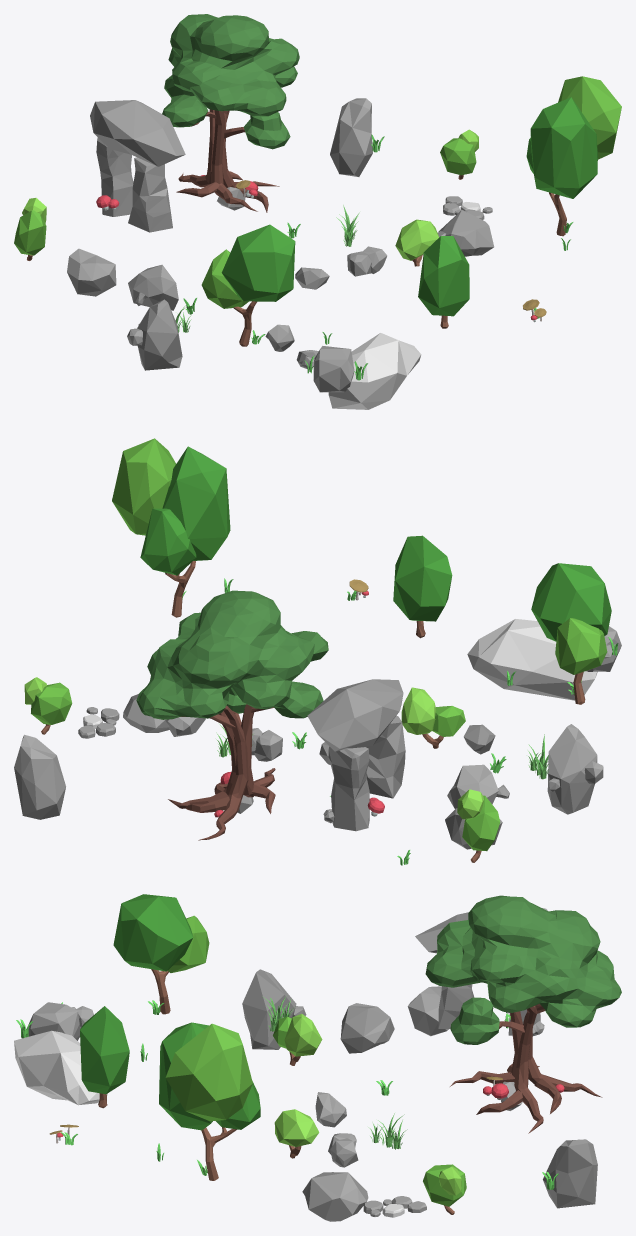
File: gardenhongos.fbx
3 renders of one model, top to bottom at view 1: azimuth 30°, elevation 25°; view 2: azimuth 150°, elevation 25°; view 3: azimuth 270°, elevation 25°, orthographic. The views are drawn at different scales.
Parts seen in each view (by area): view 1: Mball.016, Cube, Cube.030, Cube.035, Icosphere.008, Icosphere.019, Icosphere.012, Cube.022, Cube.021, Cube.017, Icosphere.004, Cube.018 (+5 smaller); view 2: Mball.016, Cube.030, Cube, Cube.035, Icosphere.008, Icosphere.019, Icosphere.012, Cube.022, Cube.031, Cube.041, Cube.039, Cube.018 (+4 smaller); view 3: Mball.016, Cube.030, Cube.035, Icosphere.008, Icosphere.019, Icosphere.012, Cube.022, Icosphere.004, Cube.018, Cube, Cube.031, Cube.039 (+6 smaller).
Part boxes in pixels (<box>): Mball.016: <box>162,14,299,212</box>; Cube: <box>90,100,185,232</box>; Cube.030: <box>526,76,621,236</box>; Cube.035: <box>201,224,295,346</box>; Icosphere.008: <box>328,333,421,409</box>; Icosphere.019: <box>418,236,469,328</box>; Icosphere.012: <box>330,98,372,176</box>; Cube.022: <box>137,299,182,370</box>; Cube.021: <box>67,248,116,296</box>; Cube.017: <box>313,346,354,392</box>; Icosphere.004: <box>438,210,494,256</box>; Cube.018: <box>128,264,178,310</box>; Mball.016: <box>136,590,328,840</box>; Cube.030: <box>112,438,230,617</box>; Cube: <box>307,679,405,831</box>; Cube.035: <box>531,563,611,704</box>; Icosphere.008: <box>467,619,597,700</box>; Icosphere.019: <box>393,535,452,638</box>; Icosphere.012: <box>14,734,65,819</box>; Cube.022: <box>547,724,597,814</box>; Cube.031: <box>401,687,465,748</box>; Cube.041: <box>457,789,500,862</box>; Cube.039: <box>24,677,72,734</box>; Cube.018: <box>447,764,498,808</box>; Mball.016: <box>425,895,621,1133</box>; Cube.030: <box>159,1022,260,1180</box>; Cube.035: <box>113,894,209,1014</box>; Icosphere.008: <box>14,1030,107,1105</box>; Icosphere.019: <box>80,1006,129,1108</box>; Icosphere.012: <box>543,1139,597,1208</box>; Cube.022: <box>242,969,296,1049</box>; Icosphere.004: <box>302,1172,368,1221</box>; Cube.018: <box>340,1003,394,1053</box>; Cube: <box>415,908,547,1035</box>; Cube.031: <box>273,1013,322,1065</box>; Cube.039: <box>423,1164,466,1214</box>.
Size of the model in its own units: 1417 by 649 by 1463.
